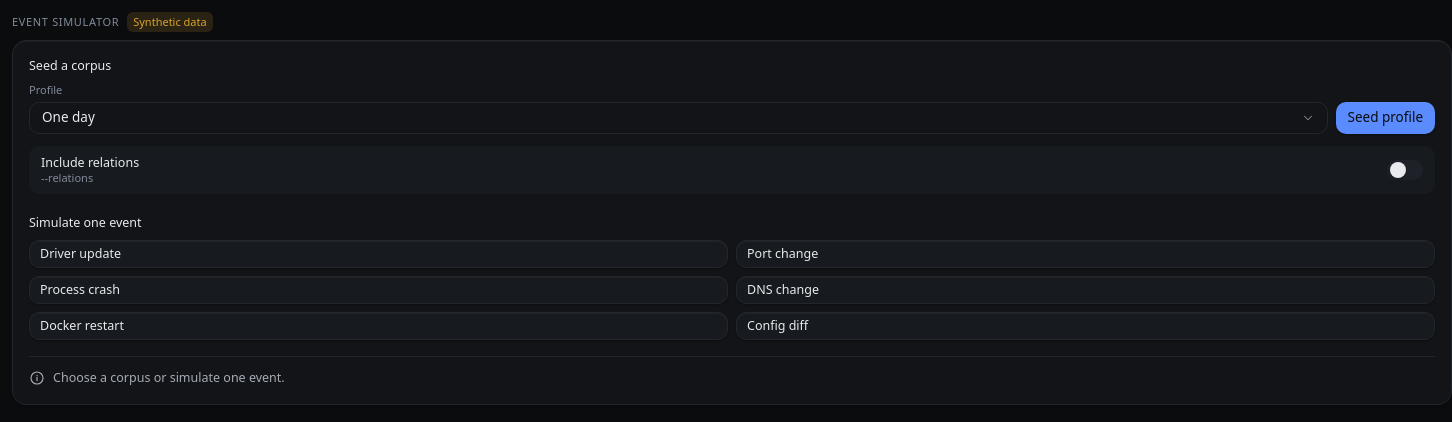
Test: DevSimulationPanel › seeds the selected profile with relations and announces success
This screenshot has width=1452, height=422.
Press Enter in the button with aria-label "Synthetic data profile", box [29,102,1328,134]
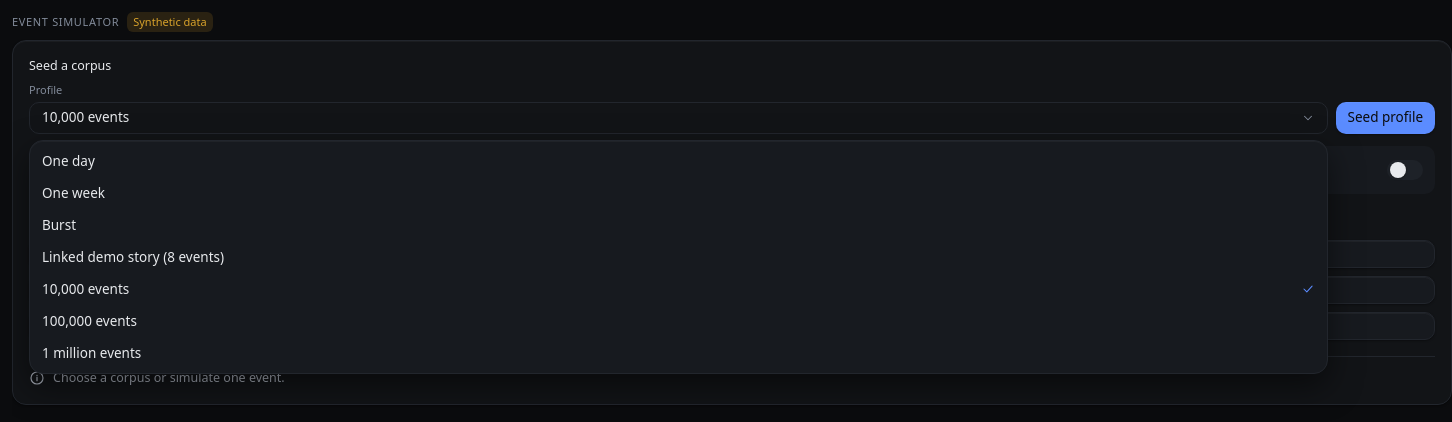
Now the list is shown, box [29,140,1328,374]
Click the switch named "Include synthetic entity relations" at (1405, 170), box [1387,160,1423,180]
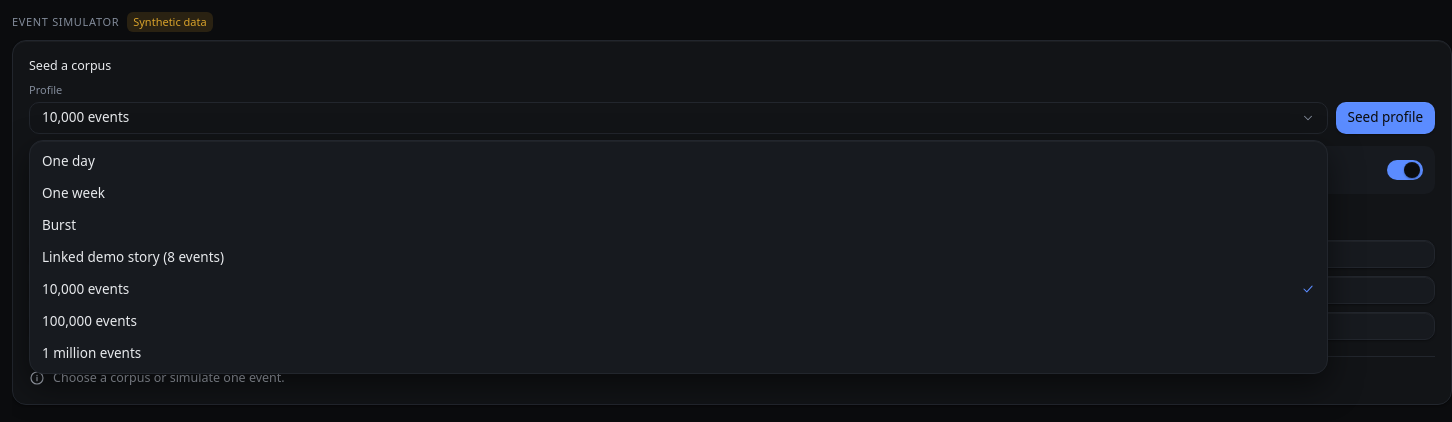
Click the button "Seed profile" at (1385, 118), box [1336,102,1435,134]
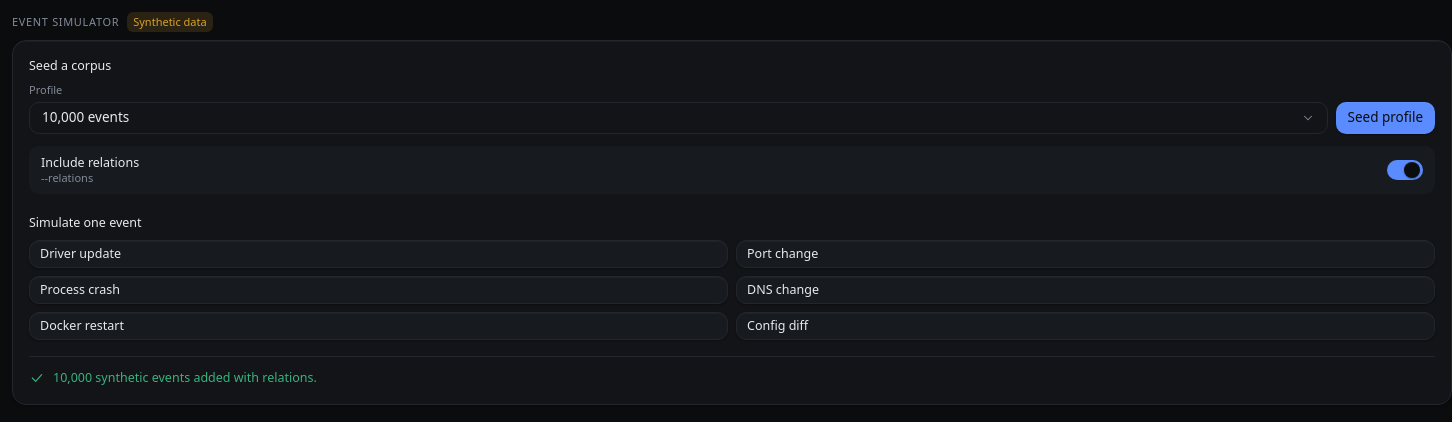
Now the message reads "10,000 synthetic events added with relations.", box [53,369,317,386]
